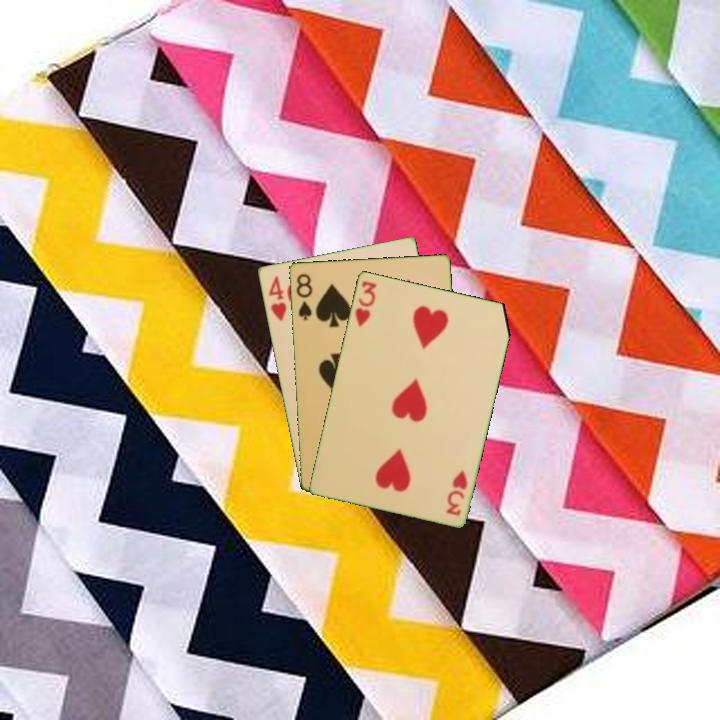3h: (351, 277, 379, 329), (442, 466, 470, 518)
4h: (265, 272, 289, 324)
8s: (293, 270, 315, 322)
